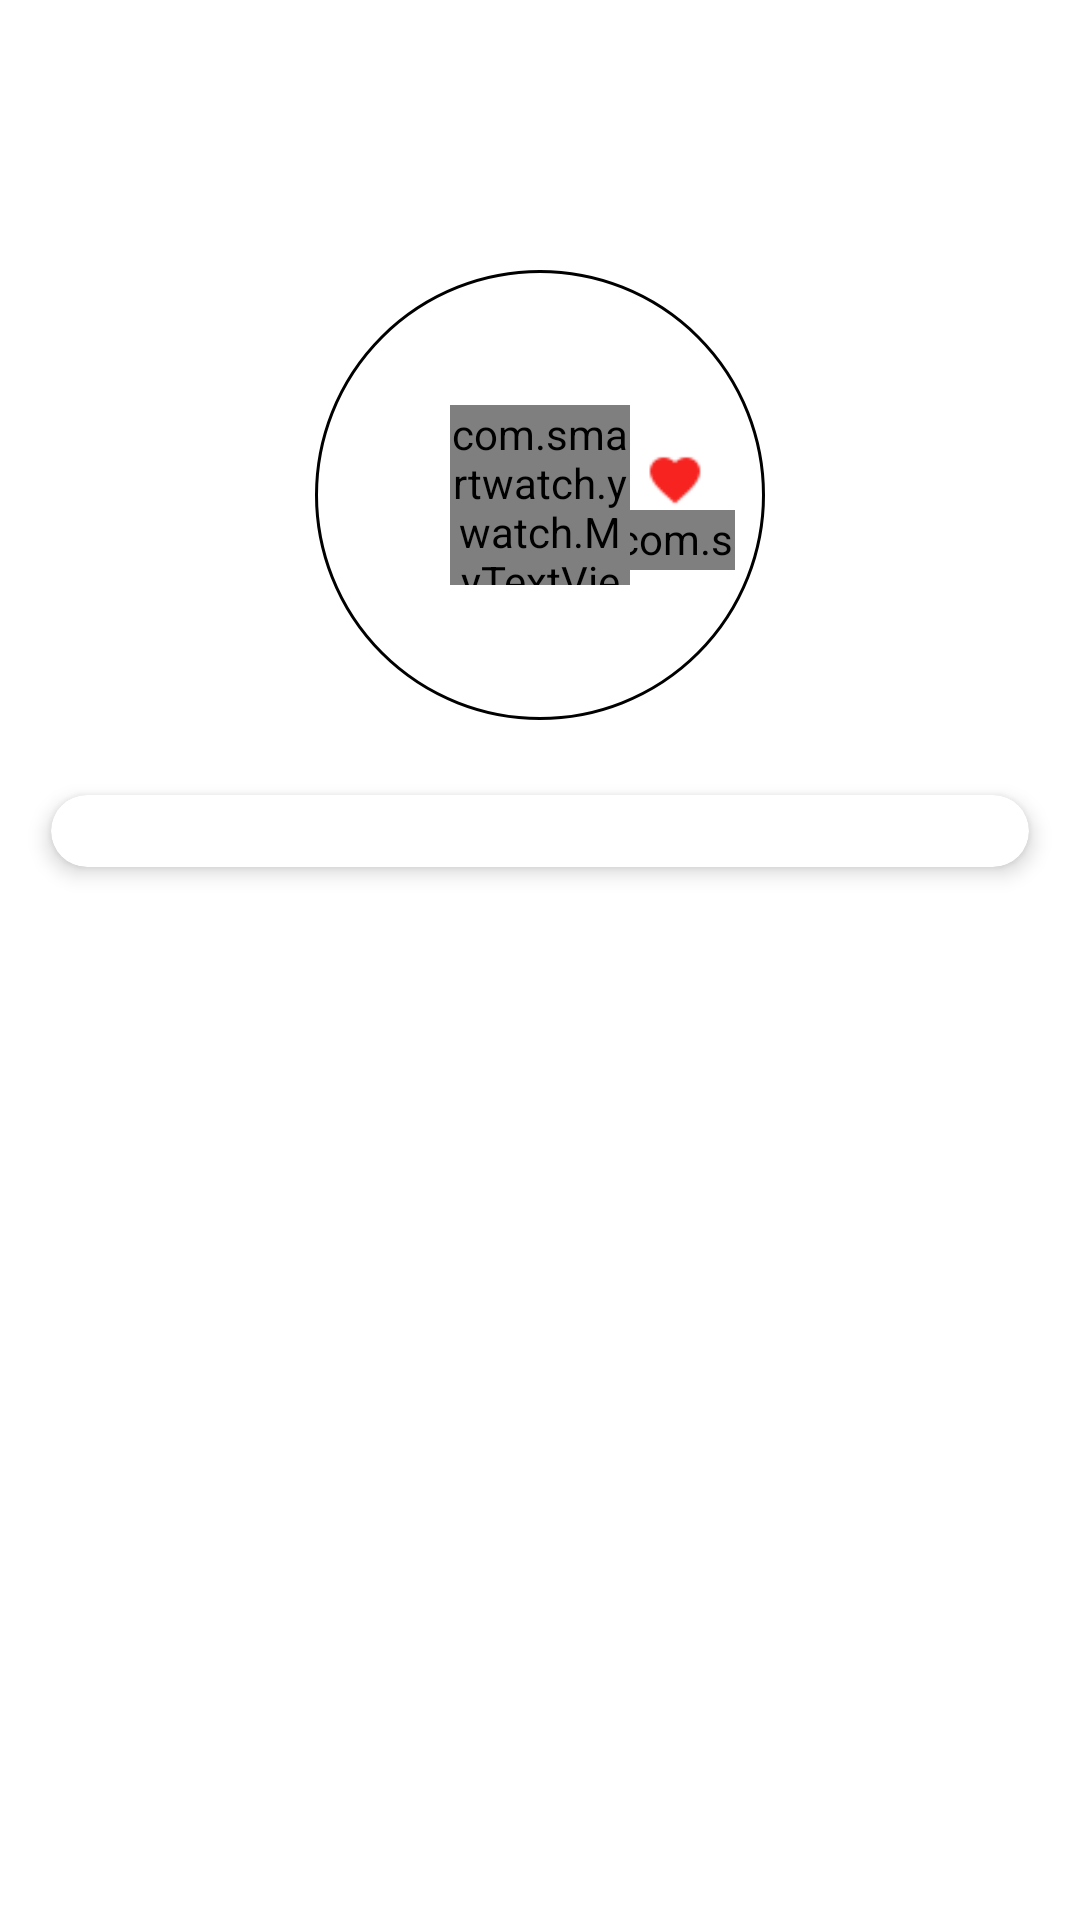

Named icons in this screenshot (1080×1920) and their centers, [x,y]:
pheart: [675,480]
